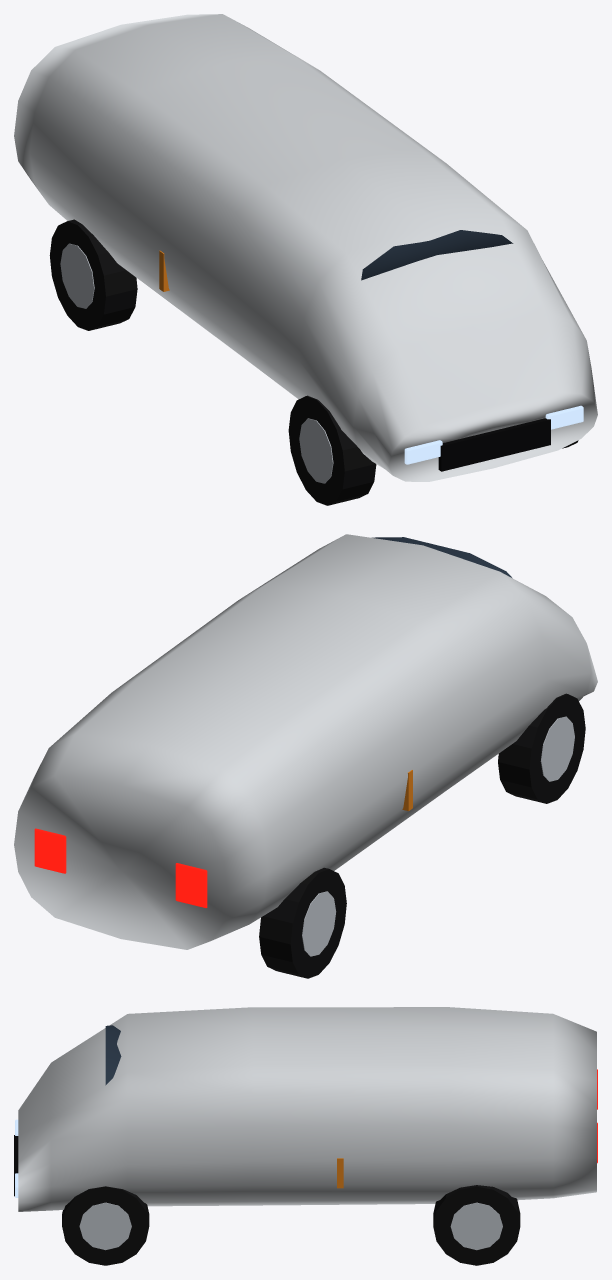
Rendered from van.glb.
3 renders of one model, top to bottom at view 1: azimuth 30°, elevation 25°; view 2: azimuth 150°, elevation 25°; view 3: azimuth 270°, elevation 25°, orthographic. The views are drawn at different scales.
Visible parts, largest first — view 1: VanHull, VTire3, VTire1, VanGrille, VanGlass, VRim3, VRim1, VanHead.001; view 2: VanHull, VTire3, VTire1, VRim1, VRim3, VanTail, VanTail.001, VanGlass; view 3: VanHull, VTire2, VTire0, VRim0, VRim2, VanGlass.
Part boxes in pixels (<box>): VanHull: <box>14,14,597,481</box>; VTire3: <box>49,219,137,330</box>; VTire1: <box>288,395,376,505</box>; VanGrille: <box>438,418,550,471</box>; VanGlass: <box>361,230,513,280</box>; VRim3: <box>60,243,94,308</box>; VRim1: <box>299,418,333,483</box>; VanHead.001: <box>404,440,442,464</box>; VanHull: <box>14,534,597,949</box>; VTire3: <box>259,867,346,978</box>; VTire1: <box>498,693,585,803</box>; VRim1: <box>540,716,574,781</box>; VRim3: <box>302,891,336,956</box>; VanTail: <box>34,828,66,873</box>; VanTail.001: <box>175,863,207,907</box>; VanGlass: <box>372,537,511,577</box>; VanHull: <box>18,1007,596,1211</box>; VTire2: <box>433,1185,520,1265</box>; VTire0: <box>62,1186,149,1265</box>; VRim0: <box>79,1202,131,1250</box>; VRim2: <box>450,1202,502,1250</box>; VanGlass: <box>105,1025,121,1085</box>.
Bounding box in the file's own units: 2.05 × 1.92 × 5.35.
